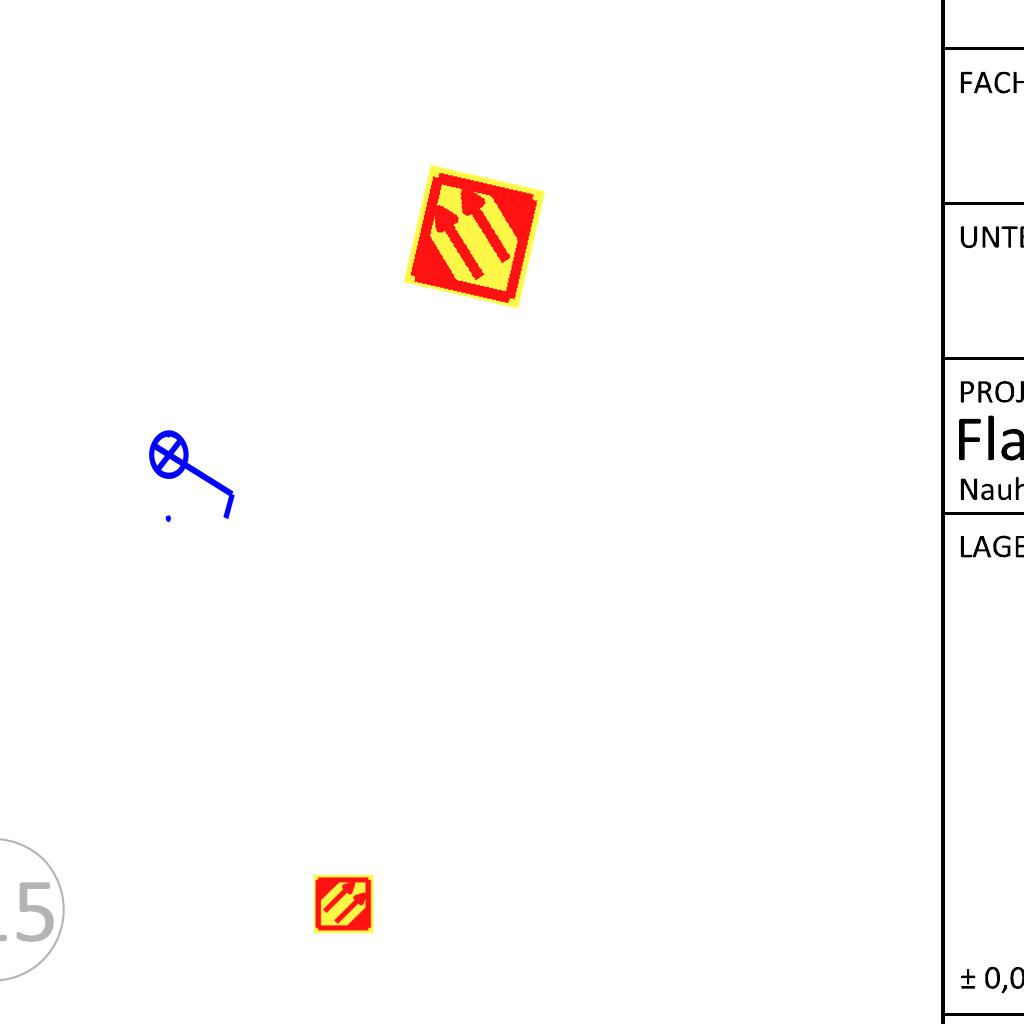ASR_Ansaugrauchmelder: (399, 161, 550, 312), (313, 873, 375, 935)
Ausschalter_beleuchtet: (147, 416, 243, 528)
